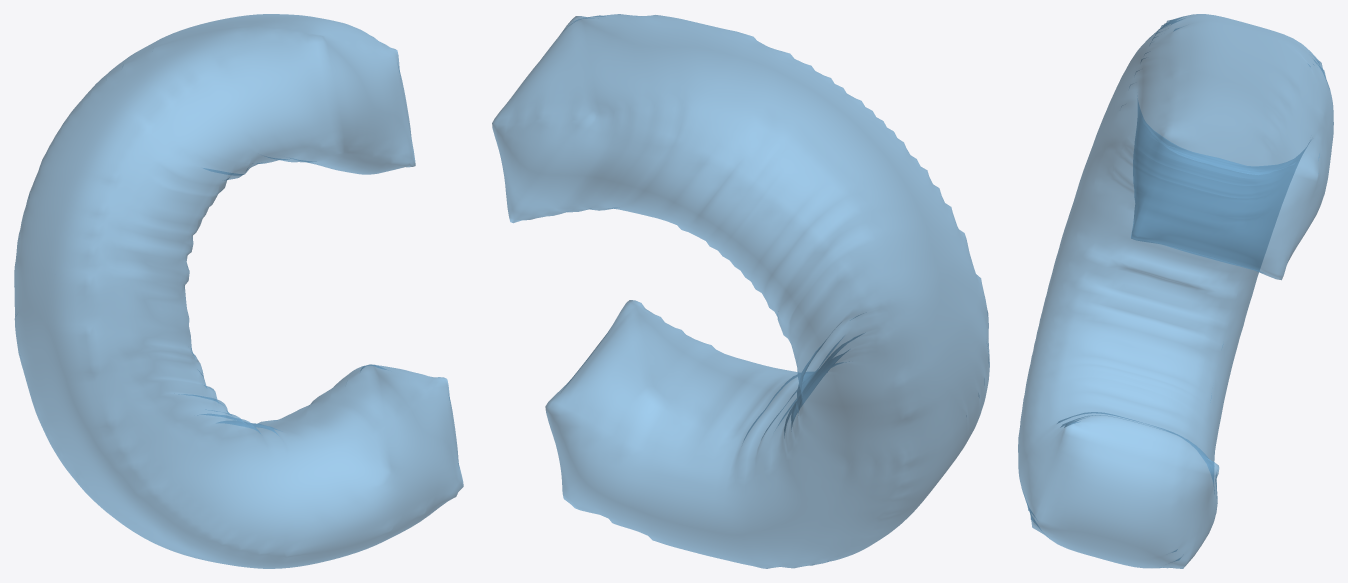
The model's file is cbukva2.glb.
3 views of the same model, side by side, from view 1: azimuth 30°, elevation 25°; view 2: azimuth 150°, elevation 25°; view 3: azimuth 270°, elevation 25° (orthographic). The views are drawn at different scales.
Parts seen in each view (by area): view 1: Text; view 2: Text; view 3: Text.
Boxes of the visible parts, <box> form: Text: <box>14,14,463,568</box>; Text: <box>492,14,989,568</box>; Text: <box>1018,14,1333,568</box>.
Bounding box in the file's own units: 0.4747 × 0.6077 × 0.3501.
